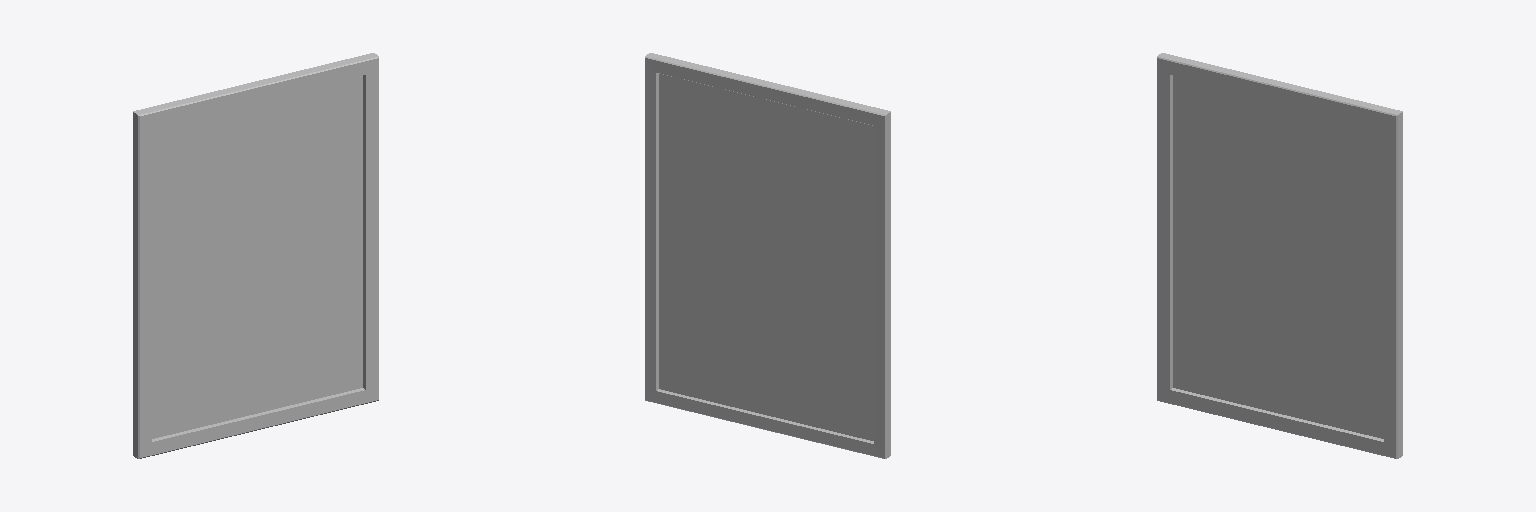
3 views of the same model, side by side, from view 1: azimuth 30°, elevation 25°; view 2: azimuth 150°, elevation 25°; view 3: azimuth 330°, elevation 25° (orthographic).
Parts seen in each view (by area): view 1: A1.obj; view 2: A1.obj; view 3: A1.obj.
Boxes of the visible parts, x1=… form: A1.obj: x1=133, y1=53, x2=378, y2=458; A1.obj: x1=645, y1=53, x2=890, y2=458; A1.obj: x1=1157, y1=53, x2=1402, y2=458.
Bounding box in the file's own units: 0.6658 × 0.9084 × 0.0298.